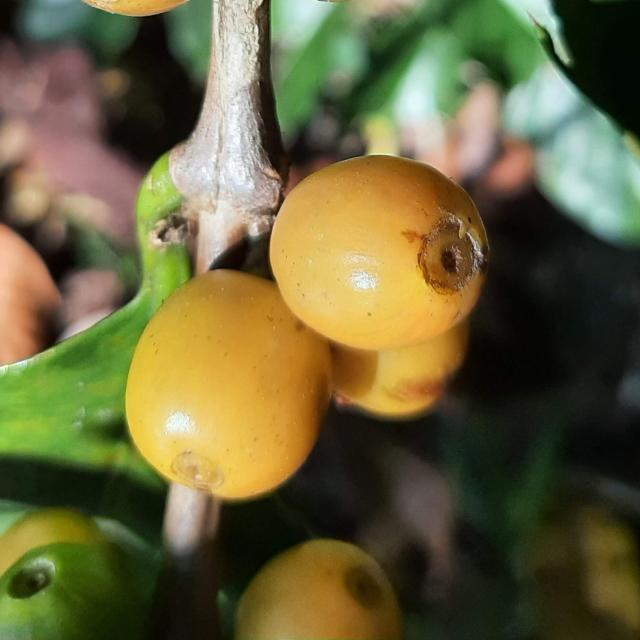Unripe: (125, 270, 332, 499), (270, 155, 489, 350), (235, 541, 403, 640), (0, 544, 150, 640), (331, 319, 469, 420), (82, 0, 189, 15)
